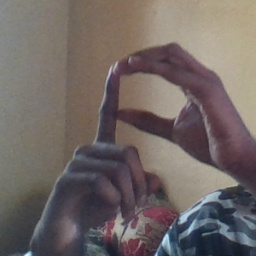P: (60, 37, 223, 213)
